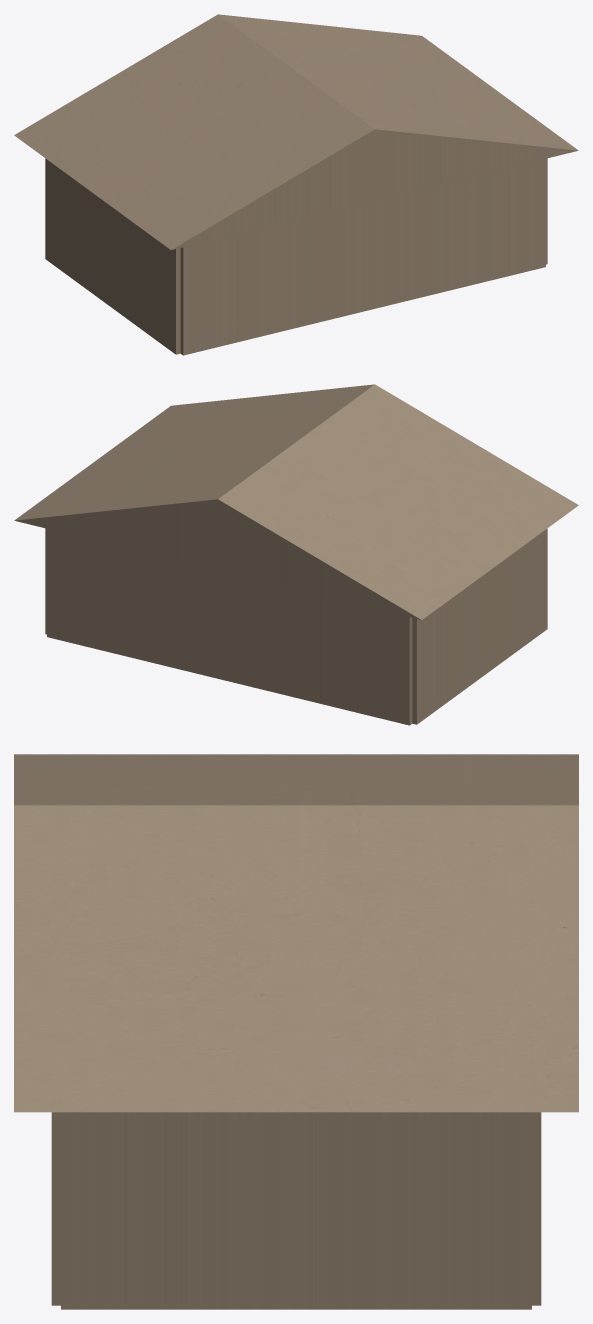
The model's file is three_room_house.glb.
3 views of the same model, one above another, from view 1: azimuth 30°, elevation 25°; view 2: azimuth 150°, elevation 25°; view 3: azimuth 270°, elevation 25° (orthographic). The views are drawn at different scales.
Visible parts, largest first — view 1: ThreeRoomHouse; view 2: ThreeRoomHouse; view 3: ThreeRoomHouse.
Part boxes in pixels (x1,y1,x2,y2): ThreeRoomHouse: [14, 14, 578, 355]; ThreeRoomHouse: [14, 384, 578, 725]; ThreeRoomHouse: [14, 754, 578, 1309].
Size of the model in its own units: 9 by 4 by 6.
1 material, 1 textured.
